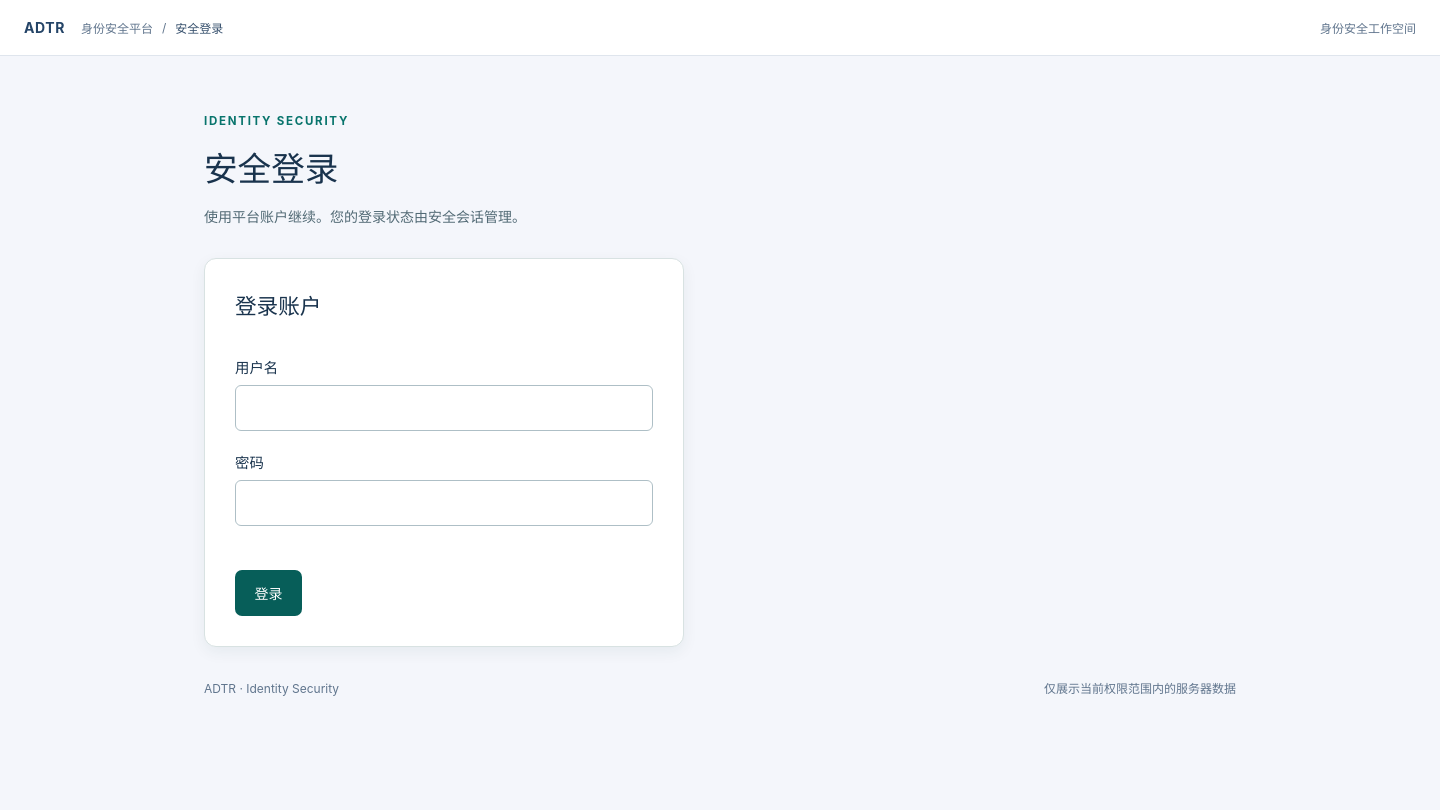
Scenario: authentication › logs in with normalized username and only server-backed profile
Expected: the heading "登录账户" is shown, x1=235 y1=293 x2=321 y2=319
Type "Admin" into the field labelled "用户名" at coordinates (444, 408), box x1=235 y1=385 x2=653 y2=431
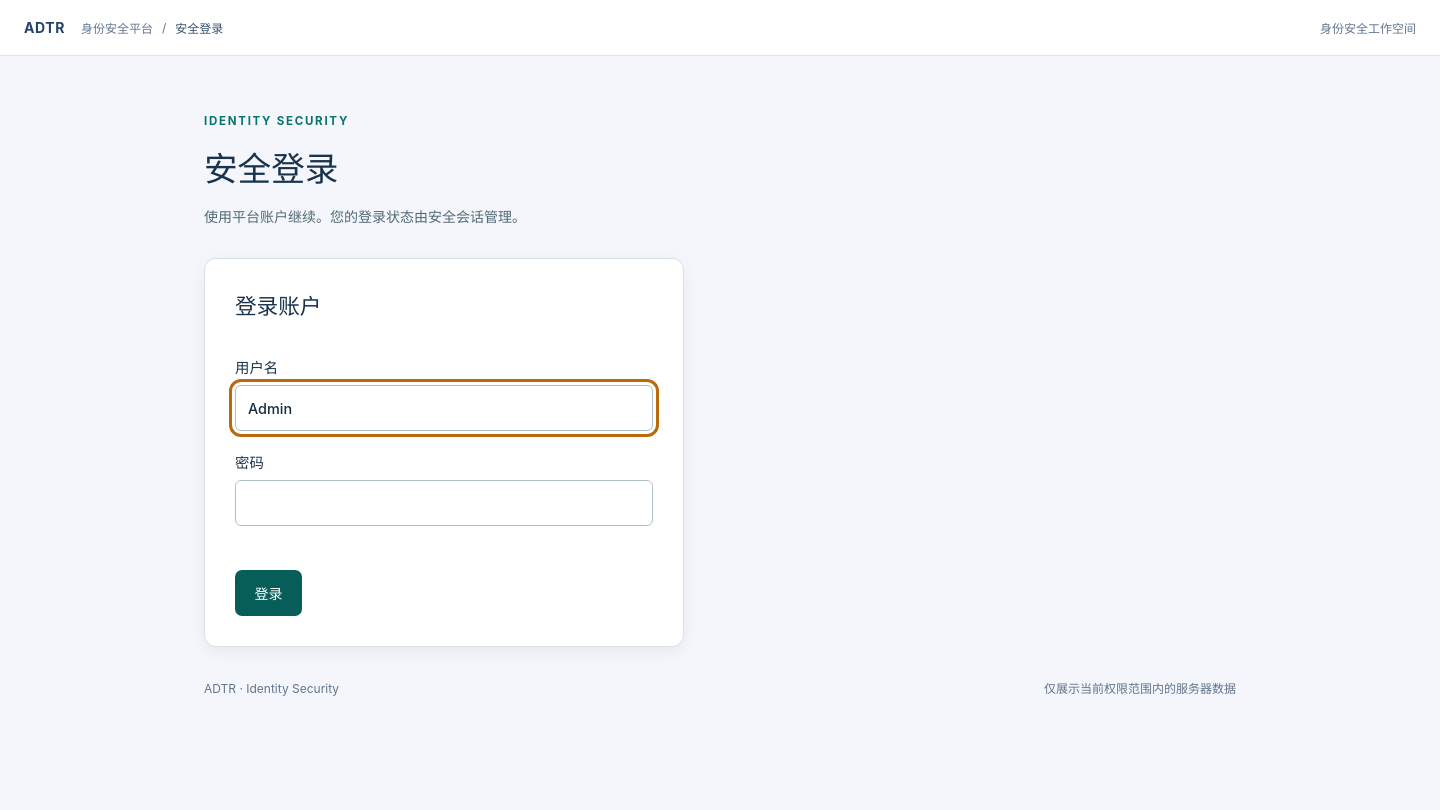
Type "sample-password" into the password field labelled "密码" at coordinates (444, 503), box x1=235 y1=480 x2=653 y2=526
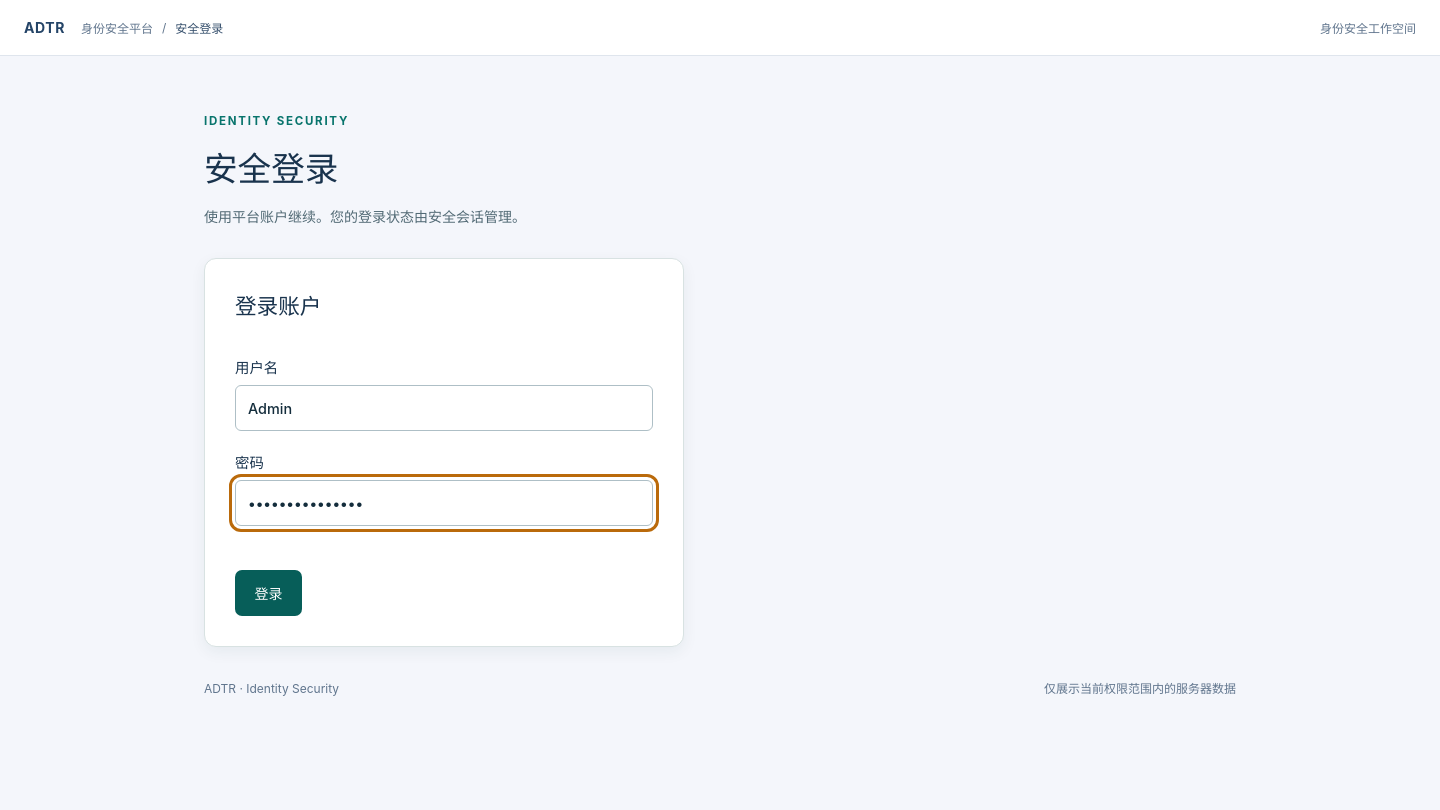
Click the button "登录" at coordinates (268, 593), box x1=235 y1=570 x2=302 y2=616
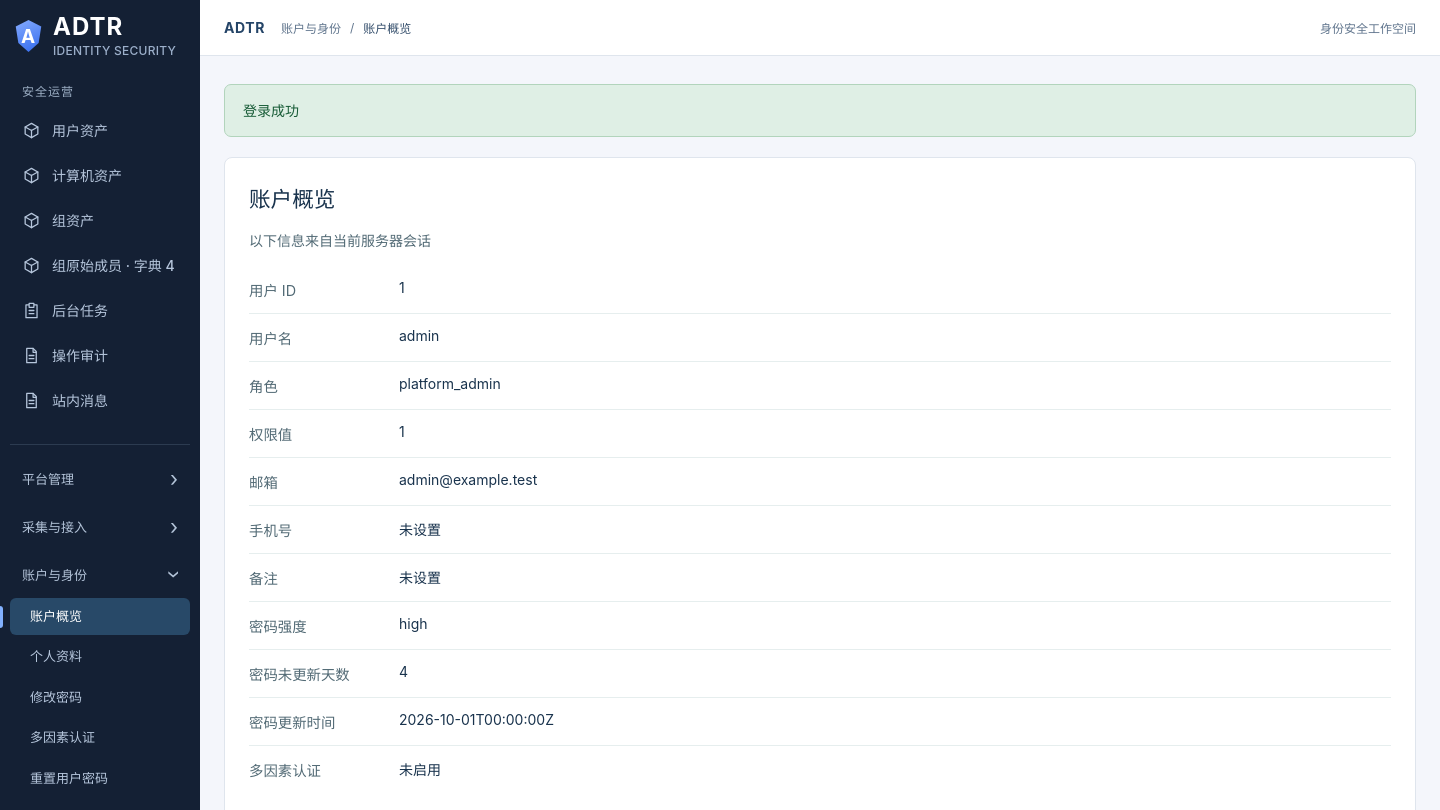
Now the heading "账户概览" is shown, box x1=249 y1=186 x2=335 y2=212
